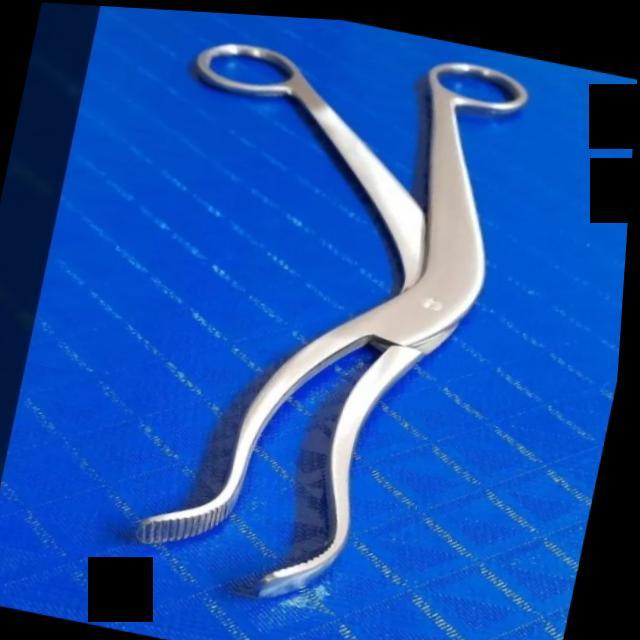Cheatle Forceps: (96, 6, 541, 638)
